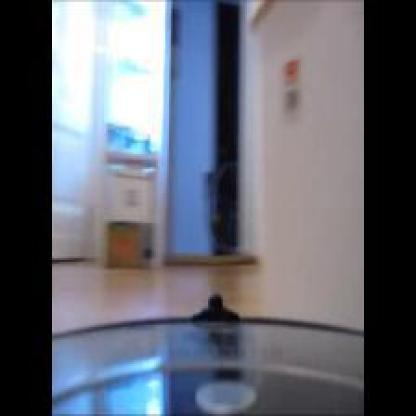other: (107, 14, 154, 136), (103, 225, 140, 270)
